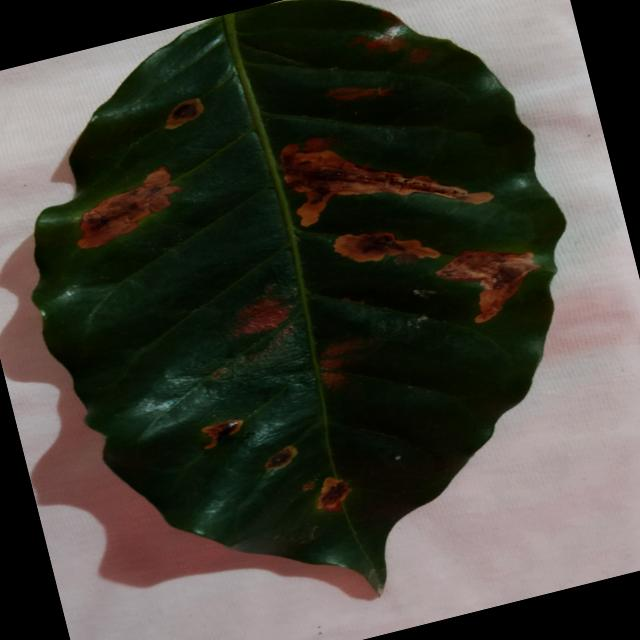KaratDaunKopi: (234, 298, 292, 335), (244, 324, 294, 362), (349, 33, 408, 52), (326, 86, 395, 100), (408, 47, 432, 64), (381, 10, 401, 24), (210, 367, 226, 378)
PengorokDaunKopi: (280, 143, 493, 226), (77, 166, 181, 248), (435, 250, 540, 322), (333, 231, 440, 263), (320, 338, 363, 387), (316, 476, 351, 511), (164, 98, 203, 129), (201, 419, 242, 448), (265, 445, 297, 470), (302, 136, 337, 153), (321, 371, 346, 388), (302, 481, 314, 490), (341, 297, 349, 301), (395, 455, 401, 459), (358, 300, 365, 303)
